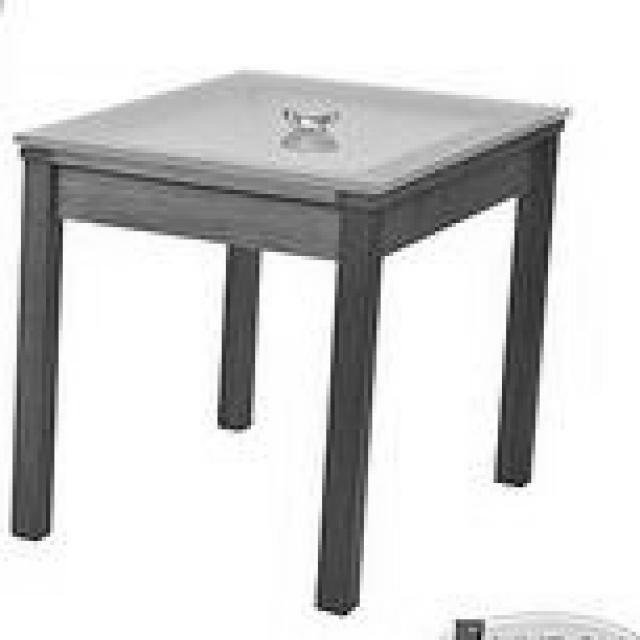table: (10, 73, 570, 616)
